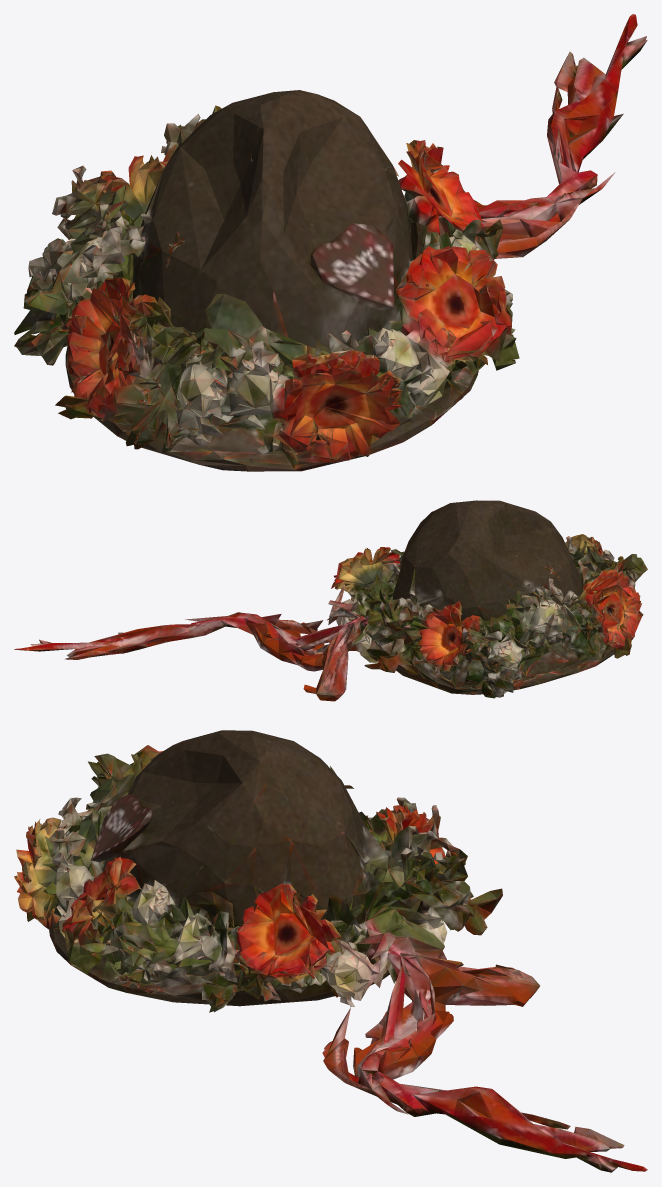
The picture shows the model from 3 angles, top to bottom: view 1: azimuth 30°, elevation 25°; view 2: azimuth 150°, elevation 25°; view 3: azimuth 270°, elevation 25°; orthographic projection. The views are drawn at different scales.
Parts seen in each view (by area): view 1: Blumenkranz_30k_1k; view 2: Blumenkranz_30k_1k; view 3: Blumenkranz_30k_1k.
Boxes of the visible parts, bbox=[...] form: Blumenkranz_30k_1k: bbox=[14, 14, 647, 471]; Blumenkranz_30k_1k: bbox=[14, 500, 647, 701]; Blumenkranz_30k_1k: bbox=[14, 730, 647, 1172].
Bounding box in the file's own units: 0.5844 × 0.1772 × 0.4598.
Materials: 1 (1 with a texture image).
